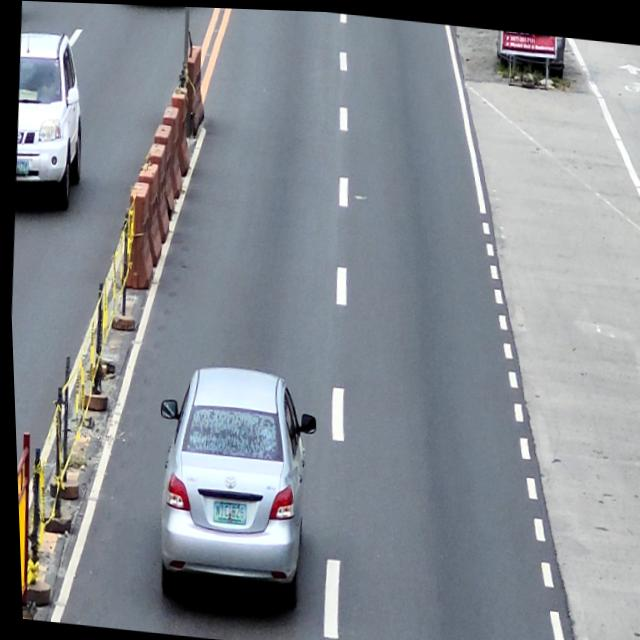Car: (142, 357, 322, 614), (7, 29, 91, 218)
License-Plate: (209, 499, 243, 524), (15, 160, 28, 175)
